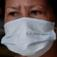with_mask: (1, 2, 57, 57)
